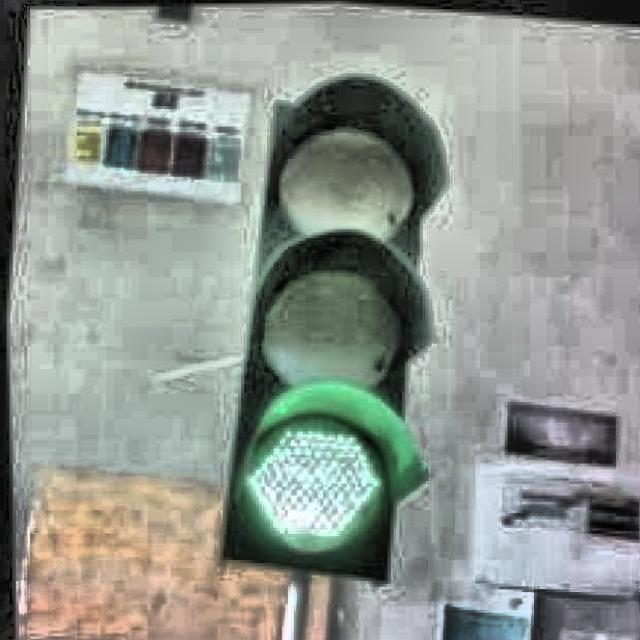green: (210, 87, 438, 566)
